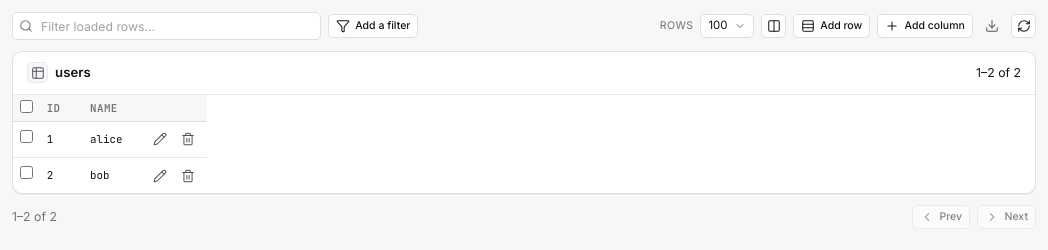
it: DataTab › staging and saving › stops offering Save once a cell is put back to what it was
This screenshot has width=1048, height=250.
Double-click the button "alice" at (112, 139), box [90,131,133,148]
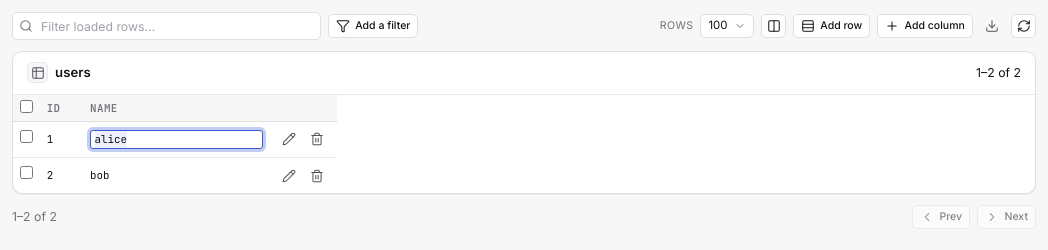
Replace the text in the field named "Cell value" with "alicia" at (177, 139), box [90,130,263,149]
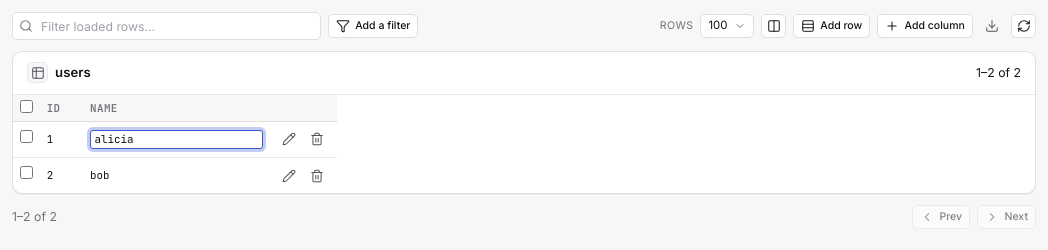
Press Enter in the field named "Cell value", box [90,130,263,149]
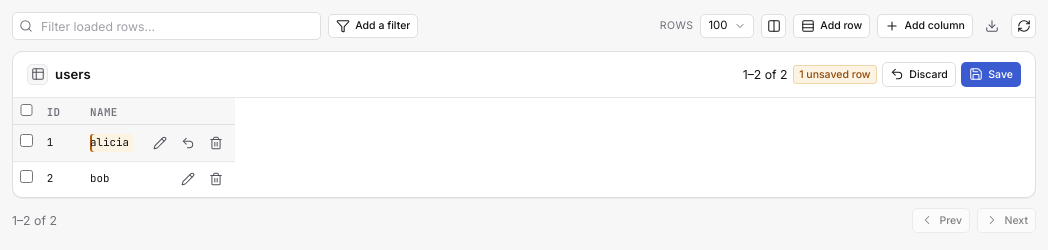
Double-click the button "alicia" at (112, 143), box [90,134,133,152]
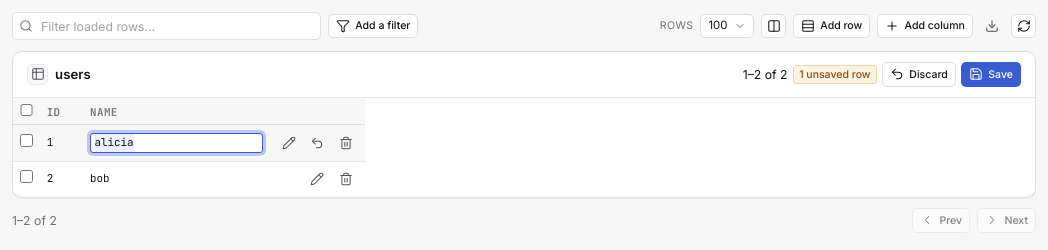
Replace the text in the field named "Cell value" with "alice" at (177, 143), box [90,133,263,153]
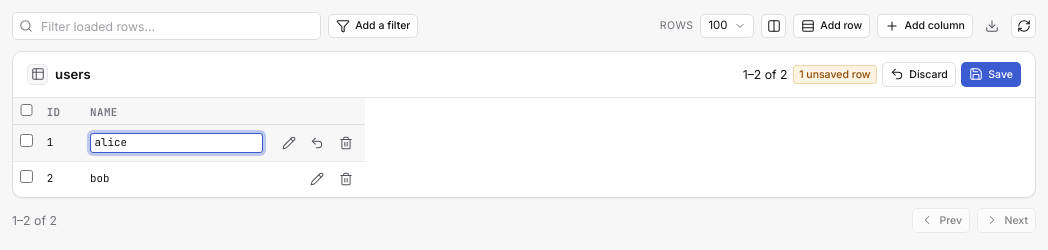
Press Enter in the field named "Cell value", box [90,133,263,153]
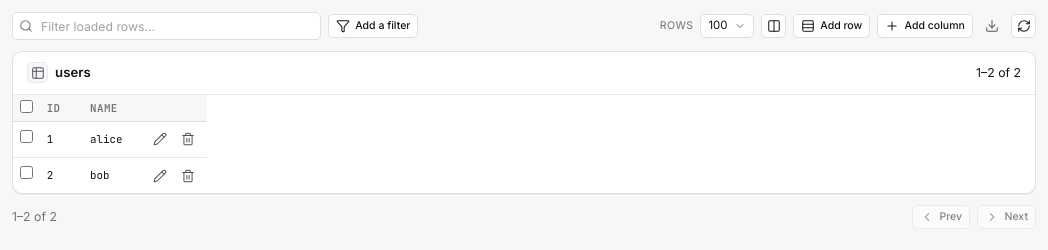
Result: the text "save" is gone
